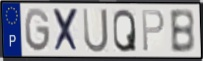B: (168, 8, 196, 55)
G: (23, 6, 52, 54)
P: (141, 9, 166, 54)
Q: (112, 8, 138, 54)
U: (81, 7, 110, 54)
X: (52, 7, 80, 53)
